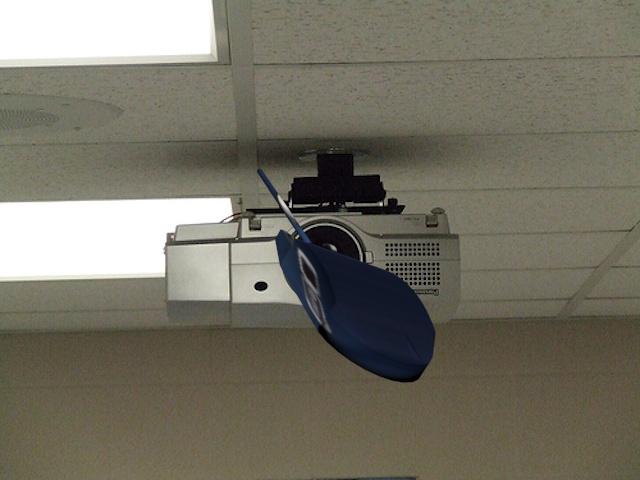mouse: (256, 160, 448, 384)
